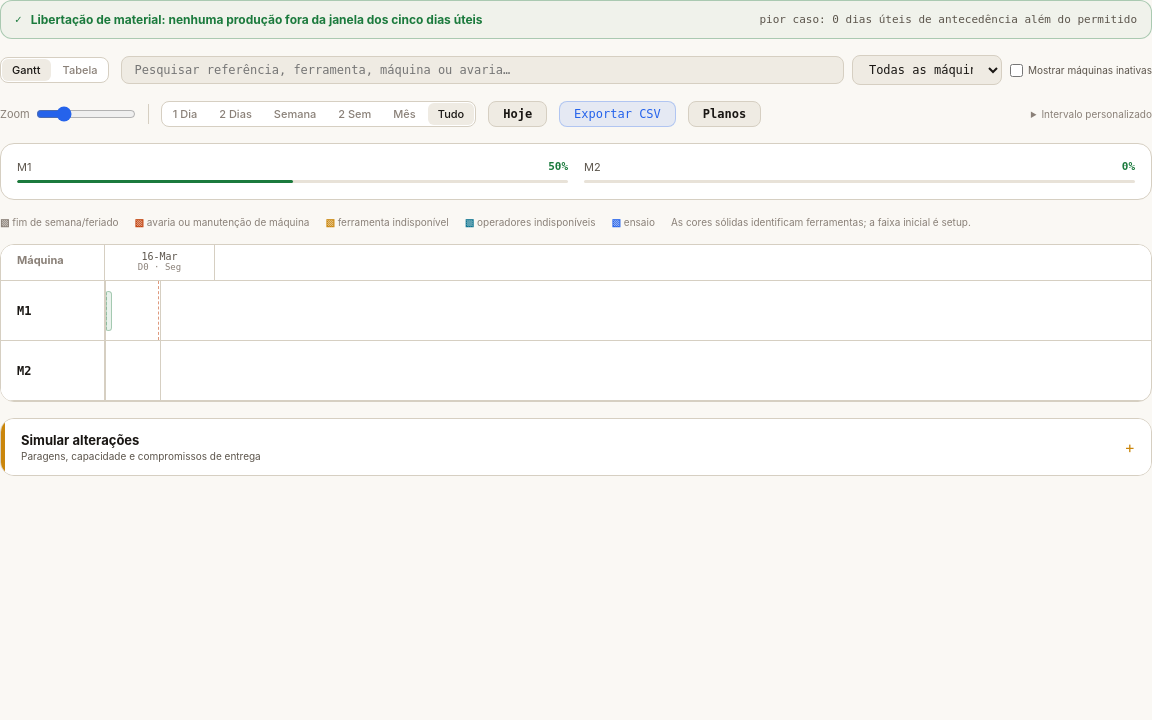
Test: GanttPage › usa o rótulo Gantt e turnos vindos da configuração
Expected: the button "Gantt" is shown, [2, 59, 50, 81]
Click the button "1 Dia" at {"x": 185, "y": 114}, box [163, 103, 207, 125]
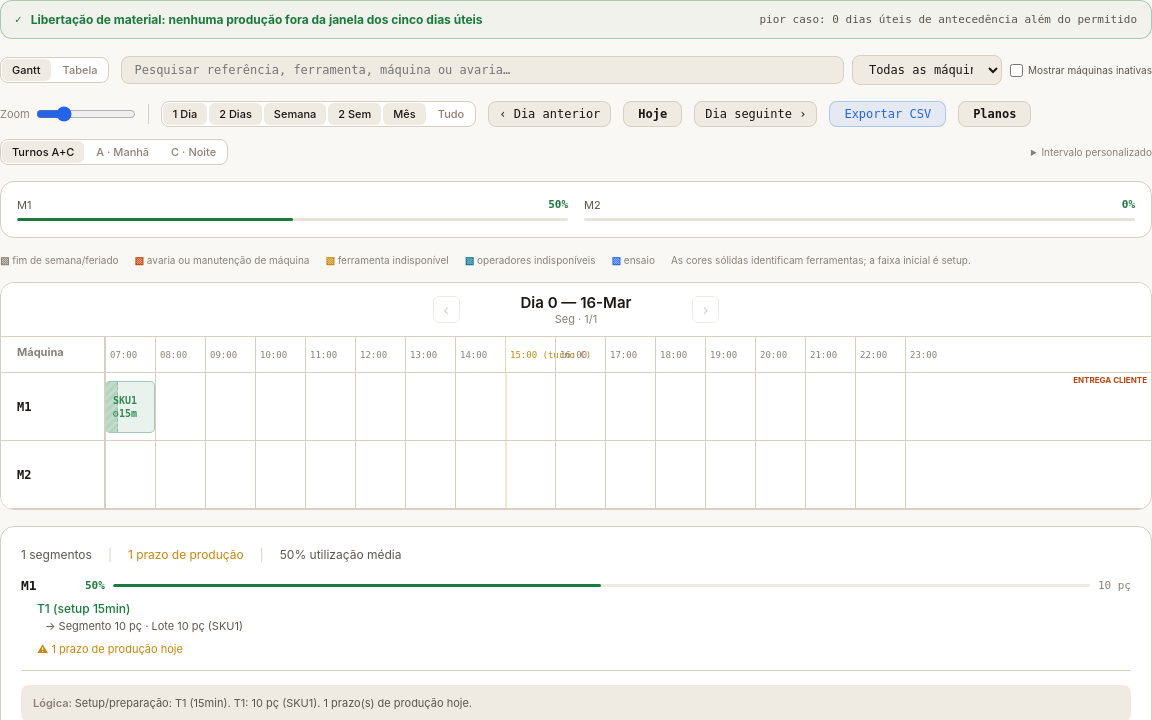
Expected: the button "Turnos A+C" is shown, [2, 141, 84, 163]
Expected: the button "C · Noite" is shown, [161, 141, 226, 163]
